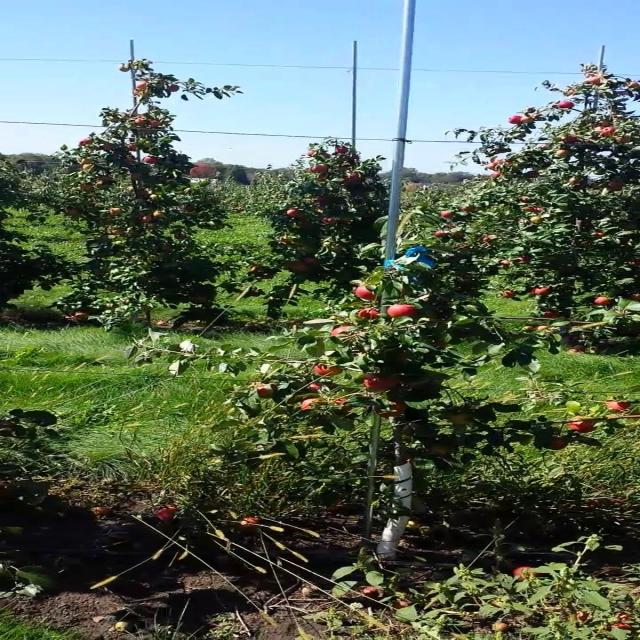apple: (369, 376, 402, 392), (390, 304, 420, 320), (376, 404, 407, 419), (568, 420, 597, 433), (255, 384, 277, 399), (319, 364, 343, 376), (355, 288, 377, 301), (547, 440, 569, 451), (362, 308, 380, 320), (447, 416, 471, 425), (340, 400, 354, 413), (611, 404, 633, 412), (362, 308, 377, 319), (433, 448, 450, 457), (333, 328, 348, 336), (305, 400, 318, 408), (312, 384, 320, 392)
